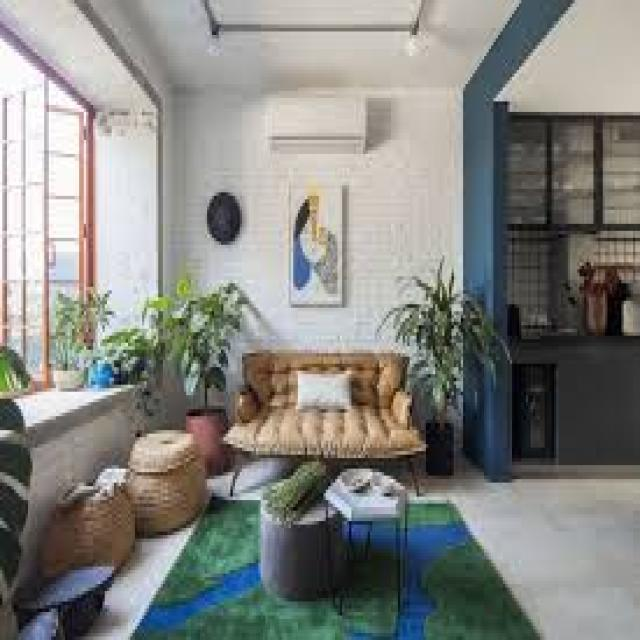Lamp: (396, 17, 435, 66), (198, 24, 226, 66)
Sofa: (235, 341, 424, 491)
Table: (256, 477, 430, 640)
